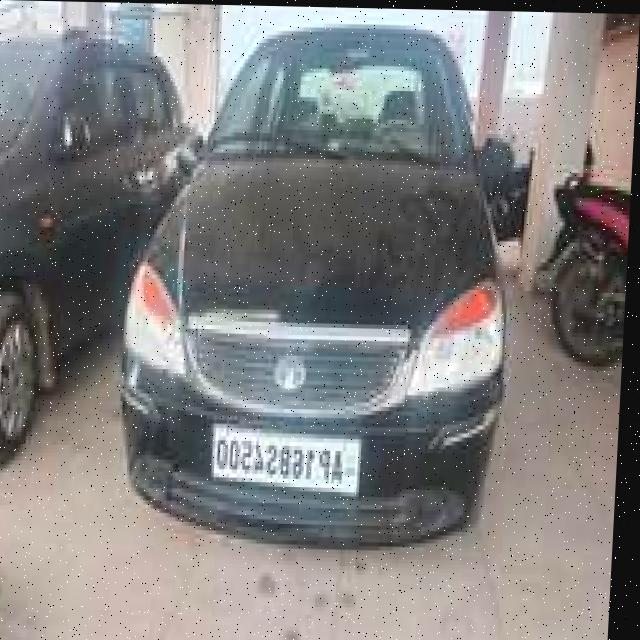plate: (212, 421, 367, 494)
